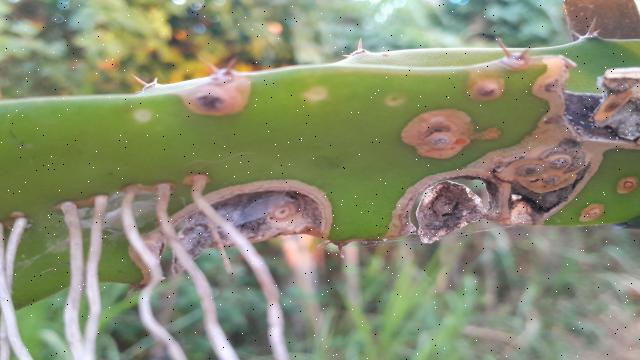stemcanker: (398, 103, 478, 163), (172, 66, 257, 119), (465, 71, 508, 105), (576, 200, 608, 224), (613, 171, 640, 199)
